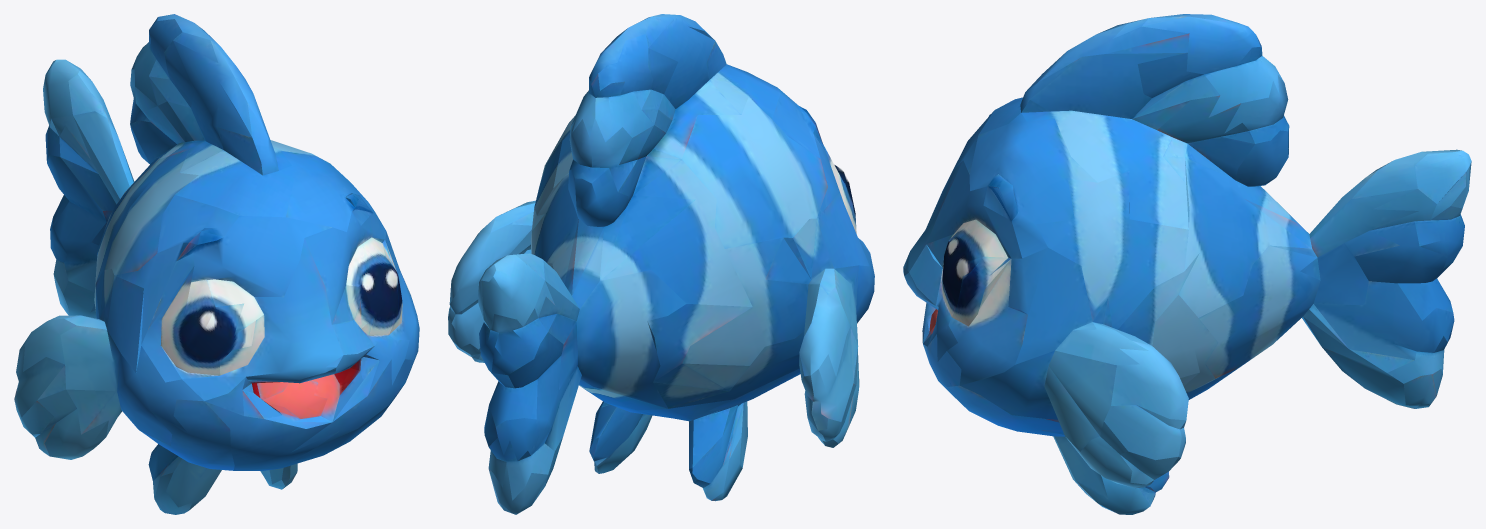
Rendered from fish.glb.
3 views of the same model, side by side, from view 1: azimuth 30°, elevation 25°; view 2: azimuth 150°, elevation 25°; view 3: azimuth 270°, elevation 25° (orthographic). The views are drawn at different scales.
Size of the model in its own units: 1.47 by 1.74 by 1.9.
1 material, 1 textured.
